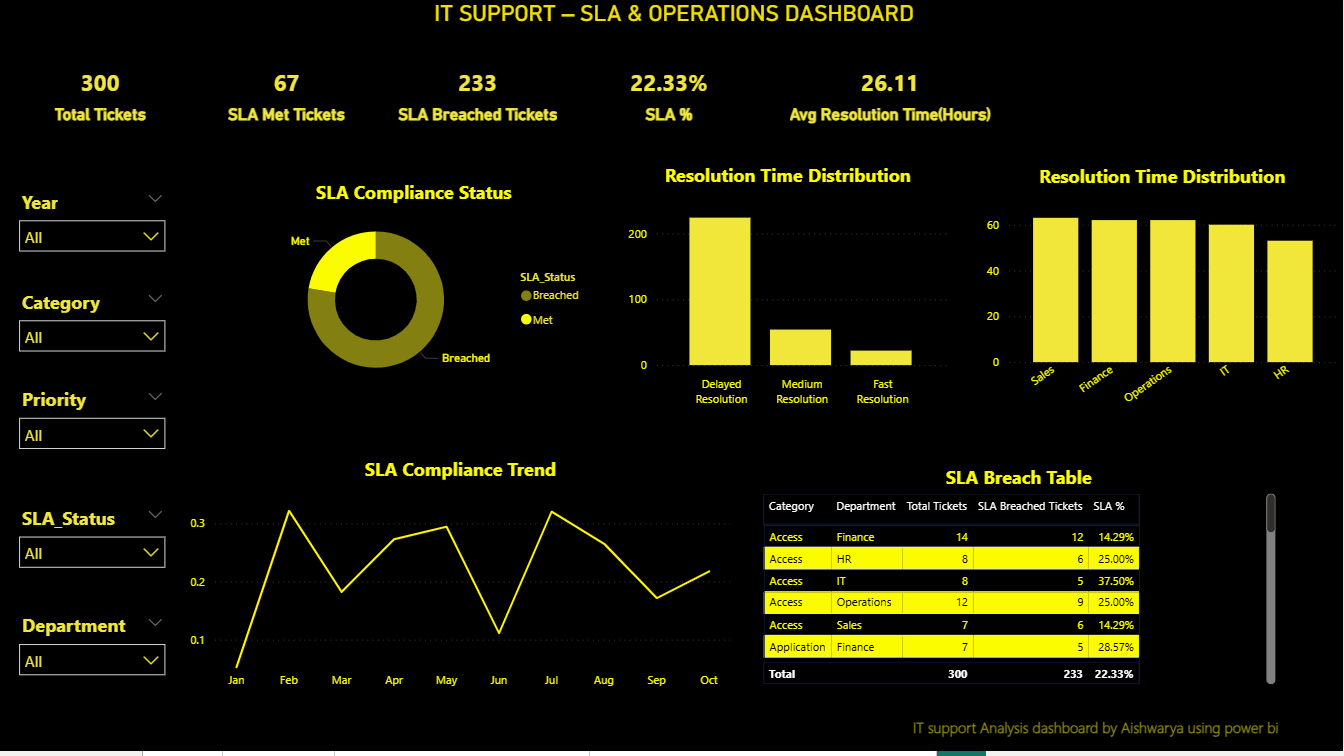

Layout of this report page (visuals, bound fields, positions):
{"tool":"powerbi","page":{"name":"Duplicate of Agent Performance Dashboard","canvas":[1280,720],"ordinal":3},"visuals":[{"type":"textbox","box":[0,0,1280.3,43.9],"z":0},{"type":"cardVisual","fields":{"Data":["Dim_Agent.Total Tickets"]},"box":[0,43.9,193.5,102.9],"z":1000},{"type":"cardVisual","fields":{"Data":["Dim_Agent.SLA Met Tickets"]},"box":[177,43.9,193.5,102.9],"z":2000},{"type":"cardVisual","fields":{"Data":["Dim_Agent.SLA Breached Tickets"]},"box":[359.5,43.9,193.5,102.9],"z":3000},{"type":"cardVisual","fields":{"Data":["Dim_Agent.SLA %"]},"box":[542,43.9,193.5,102.9],"z":4000},{"type":"cardVisual","fields":{"Data":["Dim_Agent.Avg Resolution Time(Hours)"]},"box":[725.9,43.9,245.6,102.9],"z":5000},{"type":"slicer","fields":{"Values":["Dim_Date.Year"]},"box":[0,171.5,177,79.6],"z":6000},{"type":"slicer","fields":{"Values":["Fact_Tickets.Category"]},"box":[0,266.2,177,79.6],"z":7000},{"type":"slicer","fields":{"Values":["Fact_Tickets.Priority"]},"box":[0,359.5,177,79.6],"z":8000},{"type":"slicer","fields":{"Values":["Fact_Tickets.SLA_Status"]},"box":[0,472,177,75.5],"z":9000},{"type":"slicer","fields":{"Values":["Dim_Department.Department"]},"box":[0,575,177,75.5],"z":10000},{"type":"clusteredColumnChart","title":"Resolution Time Distribution","fields":{"Category":["Fact_Tickets.Resolution_Time_Group"],"Y":["Dim_Agent.Total Tickets"]},"box":[594.2,159.2,314.2,240.1],"z":12000},{"type":"textbox","box":[865.9,683.4,395.2,37],"z":13000},{"type":"lineChart","title":"SLA Compliance Trend","fields":{"Y":["Dim_Agent.SLA Met %"],"Category":["Dim_Date.Month"]},"box":[177,439.1,524.2,230.5],"z":14000},{"type":"tableEx","title":"SLA Breach Table","fields":{"Values":["Fact_Tickets.Category","Dim_Department.Department","Dim_Agent.Total Tickets","Dim_Agent.SLA Breached Tickets","Dim_Agent.SLA %"]},"box":[721.8,447.3,499.5,214.1],"z":16000},{"type":"donutChart","title":"SLA Compliance Status","fields":{"Y":["Dim_Agent.Total Tickets"],"Category":["Fact_Tickets.SLA_Status"]},"box":[216.8,175.6,356.8,205.8],"z":17001},{"type":"clusteredColumnChart","title":"Resolution Time Distribution","fields":{"Y":["Dim_Agent.Total Tickets"],"Category":["Fact_Tickets.Customer_Department"]},"box":[935.9,160.5,344.4,240.1],"z":17002}]}

Visuals, with their boxes in screenshot pixels (x1, y1, x2, y2), scaled from the page's 1280x720 canvas onto the 1344x756 screenshot:
textbox: {"x1": 0, "y1": 0, "x2": 1343, "y2": 46}
cardVisual - Dim_Agent.Total Tickets: {"x1": 0, "y1": 46, "x2": 203, "y2": 154}
cardVisual - Dim_Agent.SLA Met Tickets: {"x1": 186, "y1": 46, "x2": 389, "y2": 154}
cardVisual - Dim_Agent.SLA Breached Tickets: {"x1": 377, "y1": 46, "x2": 581, "y2": 154}
cardVisual - Dim_Agent.SLA %: {"x1": 569, "y1": 46, "x2": 772, "y2": 154}
cardVisual - Dim_Agent.Avg Resolution Time(Hours): {"x1": 762, "y1": 46, "x2": 1020, "y2": 154}
slicer - Dim_Date.Year: {"x1": 0, "y1": 180, "x2": 186, "y2": 264}
slicer - Fact_Tickets.Category: {"x1": 0, "y1": 280, "x2": 186, "y2": 363}
slicer - Fact_Tickets.Priority: {"x1": 0, "y1": 377, "x2": 186, "y2": 461}
slicer - Fact_Tickets.SLA_Status: {"x1": 0, "y1": 496, "x2": 186, "y2": 575}
slicer - Dim_Department.Department: {"x1": 0, "y1": 604, "x2": 186, "y2": 683}
"Resolution Time Distribution" clusteredColumnChart: {"x1": 624, "y1": 167, "x2": 954, "y2": 419}
textbox: {"x1": 909, "y1": 718, "x2": 1324, "y2": 755}
"SLA Compliance Trend" lineChart: {"x1": 186, "y1": 461, "x2": 736, "y2": 703}
"SLA Breach Table" tableEx: {"x1": 758, "y1": 470, "x2": 1282, "y2": 694}
"SLA Compliance Status" donutChart: {"x1": 228, "y1": 184, "x2": 602, "y2": 400}
"Resolution Time Distribution" clusteredColumnChart: {"x1": 983, "y1": 169, "x2": 1343, "y2": 421}
